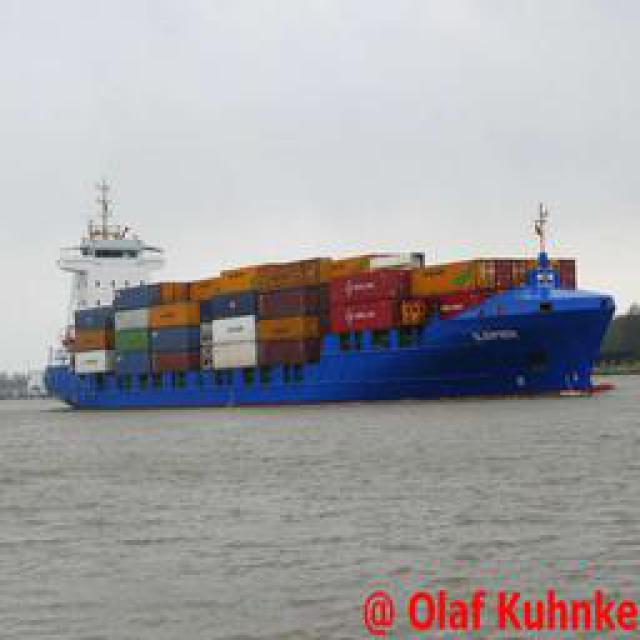Ship: (36, 209, 619, 412)
